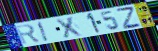1: (86, 12, 102, 35)
5: (99, 9, 121, 31)
I: (36, 20, 50, 43)
R: (15, 23, 42, 46)
X: (55, 16, 86, 39)
Z: (115, 6, 143, 31)
